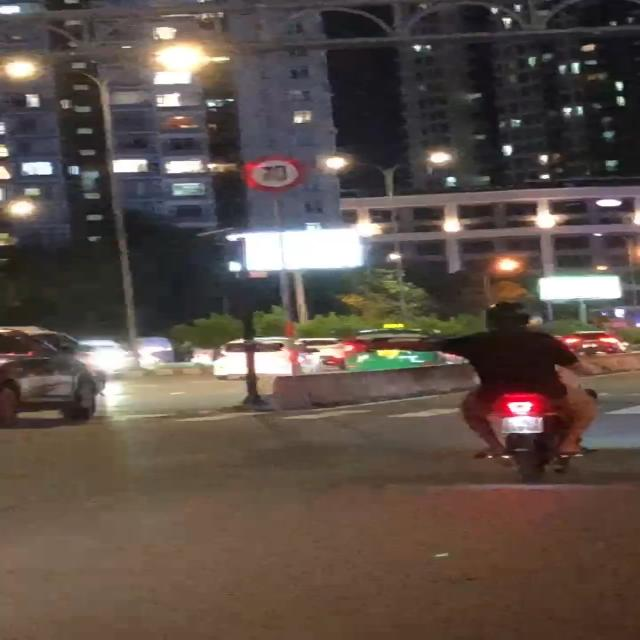Bien bao toc do toi da cho phep: (241, 154, 305, 197)
